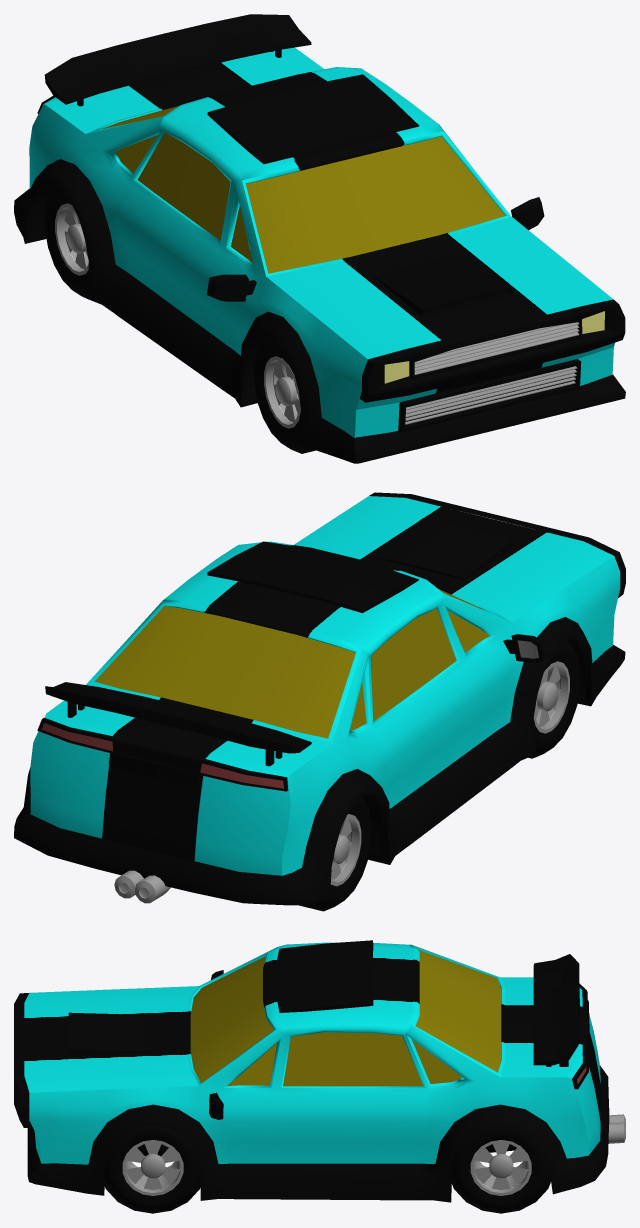
File: Muscle Evolution3 Black LineBlackCyan DarkYellow LightGrey.glb
The picture shows the model from 3 angles, top to bottom: view 1: azimuth 30°, elevation 25°; view 2: azimuth 150°, elevation 25°; view 3: azimuth 270°, elevation 25°; orthographic projection. The views are drawn at different scales.
Visible parts, largest first — view 1: evo3_body1_f1_dupl, evo3_sill3_f1_dupl, evo3_frontGlass_f1_dupl, evo3_rooftop3_f1_dupl, evo3_spoiler3_f1_dupl, evo3_frontBlockGrid3_f1_dupl, evo3_glasseBigR_f1_dupl, evo3_airtrap_front4_f1_dupl, evo3_blockgrid3_f1_dupl, evo3_gridfrontbot3_f1_dupl, evo3_gridfrontup3_f1_dupl, evo3_tire_rf1_f1_dupl (+6 smaller); view 2: evo3_body1_f1_dupl, evo3_sill3_f1_dupl, evo3_BackGlassGlass_f1_dupl, evo3_rooftop3_f1_dupl, evo3_spoiler3_f1_dupl, evo3_glasseBigR_f1_dupl, evo3_airtrap_front4_f1_dupl, evo3_blockbacklight_f1_dupl, evo3_rim_A_rf_f1_dupl, evo3_tire_rf1_f1_dupl, evo3_tire_rf_f1_dupl, evo3_frontBlockGrid3_f1_dupl (+6 smaller); view 3: evo3_body1_f1_dupl, evo3_sill3_f1_dupl, evo3_BackGlassGlass_f1_dupl, evo3_glasseBigL_f1_dupl, evo3_frontGlass_f1_dupl, evo3_rooftop3_f1_dupl, evo3_spoiler3_f1_dupl, evo3_tire_lf_f1_dupl, evo3_tire_lb_f1_dupl, evo3_airtrap_front4_f1_dupl, evo3_rim_A_lf_f1_dupl, evo3_rim_A_lb_f1_dupl (+5 smaller).
Boxes of the visible parts, left/top/right/bottom form: evo3_body1_f1_dupl: left=29, top=47, right=614, bottom=438; evo3_sill3_f1_dupl: left=14, top=159, right=625, bottom=463; evo3_frontGlass_f1_dupl: left=246, top=136, right=505, bottom=273; evo3_rooftop3_f1_dupl: left=207, top=74, right=419, bottom=164; evo3_spoiler3_f1_dupl: left=44, top=14, right=311, bottom=106; evo3_frontBlockGrid3_f1_dupl: left=360, top=299, right=625, bottom=402; evo3_glasseBigR_f1_dupl: left=137, top=133, right=230, bottom=240; evo3_airtrap_front4_f1_dupl: left=373, top=254, right=512, bottom=316; evo3_blockgrid3_f1_dupl: left=398, top=359, right=581, bottom=432; evo3_gridfrontbot3_f1_dupl: left=405, top=366, right=577, bottom=424; evo3_gridfrontup3_f1_dupl: left=414, top=322, right=579, bottom=374; evo3_tire_rf1_f1_dupl: left=253, top=336, right=315, bottom=453; evo3_body1_f1_dupl: left=30, top=496, right=620, bottom=875; evo3_sill3_f1_dupl: left=14, top=617, right=625, bottom=905; evo3_BackGlassGlass_f1_dupl: left=95, top=606, right=355, bottom=738; evo3_rooftop3_f1_dupl: left=207, top=541, right=418, bottom=613; evo3_spoiler3_f1_dupl: left=45, top=682, right=311, bottom=766; evo3_glasseBigR_f1_dupl: left=371, top=608, right=456, bottom=721; evo3_airtrap_front4_f1_dupl: left=374, top=518, right=512, bottom=579; evo3_blockbacklight_f1_dupl: left=37, top=718, right=288, bottom=791; evo3_rim_A_rf_f1_dupl: left=533, top=661, right=569, bottom=733; evo3_tire_rf1_f1_dupl: left=528, top=641, right=580, bottom=758; evo3_tire_rf_f1_dupl: left=299, top=796, right=371, bottom=911; evo3_frontBlockGrid3_f1_dupl: left=369, top=492, right=625, bottom=597; evo3_body1_f1_dupl: left=24, top=942, right=601, bottom=1164; evo3_sill3_f1_dupl: left=27, top=1065, right=609, bottom=1202; evo3_BackGlassGlass_f1_dupl: left=415, top=950, right=501, bottom=1072; evo3_glasseBigL_f1_dupl: left=283, top=1032, right=423, bottom=1086; evo3_frontGlass_f1_dupl: left=190, top=956, right=273, bottom=1083; evo3_rooftop3_f1_dupl: left=276, top=940, right=373, bottom=1012; evo3_spoiler3_f1_dupl: left=533, top=954, right=579, bottom=1066; evo3_tire_lf_f1_dupl: left=104, top=1125, right=200, bottom=1213; evo3_tire_lb_f1_dupl: left=451, top=1127, right=550, bottom=1213; evo3_airtrap_front4_f1_dupl: left=68, top=1012, right=150, bottom=1055; evo3_rim_A_lf_f1_dupl: left=122, top=1140, right=183, bottom=1195; evo3_rim_A_lb_f1_dupl: left=470, top=1140, right=531, bottom=1195.
Size of the model in its own units: 177 by 116 by 335.
Materials: 8 (1 with a texture image).
